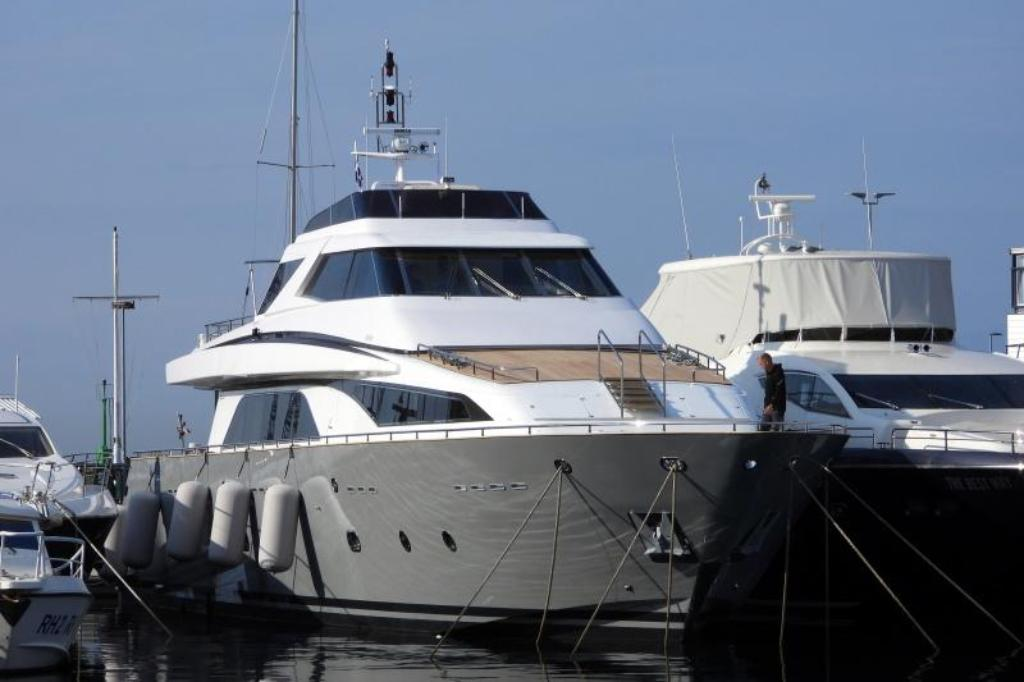PassengerShip: (120, 28, 858, 656), (618, 154, 1024, 617)
